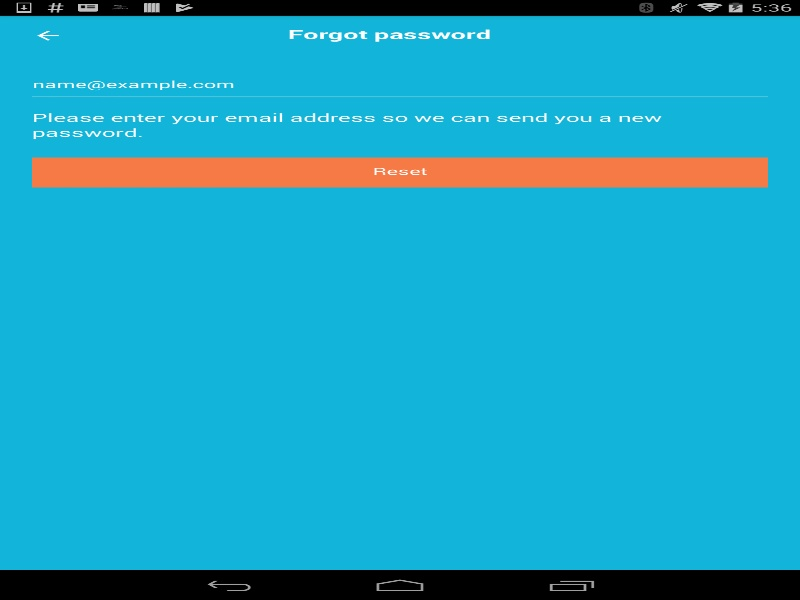Button: (32, 157, 768, 187), (10, 15, 85, 55)
Input: (32, 71, 768, 97)
